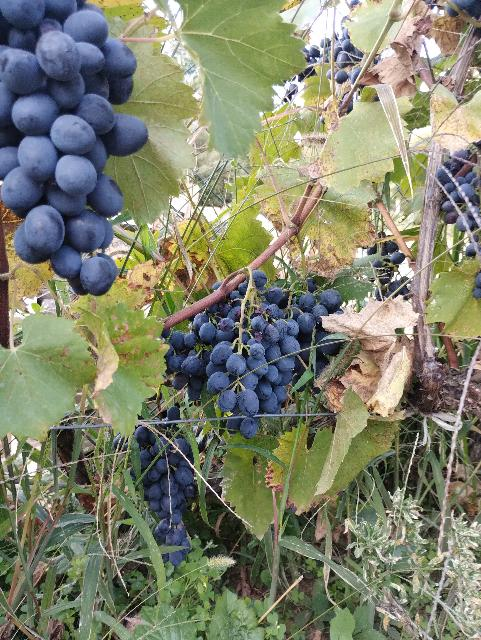grapes: (164, 270, 328, 439)
